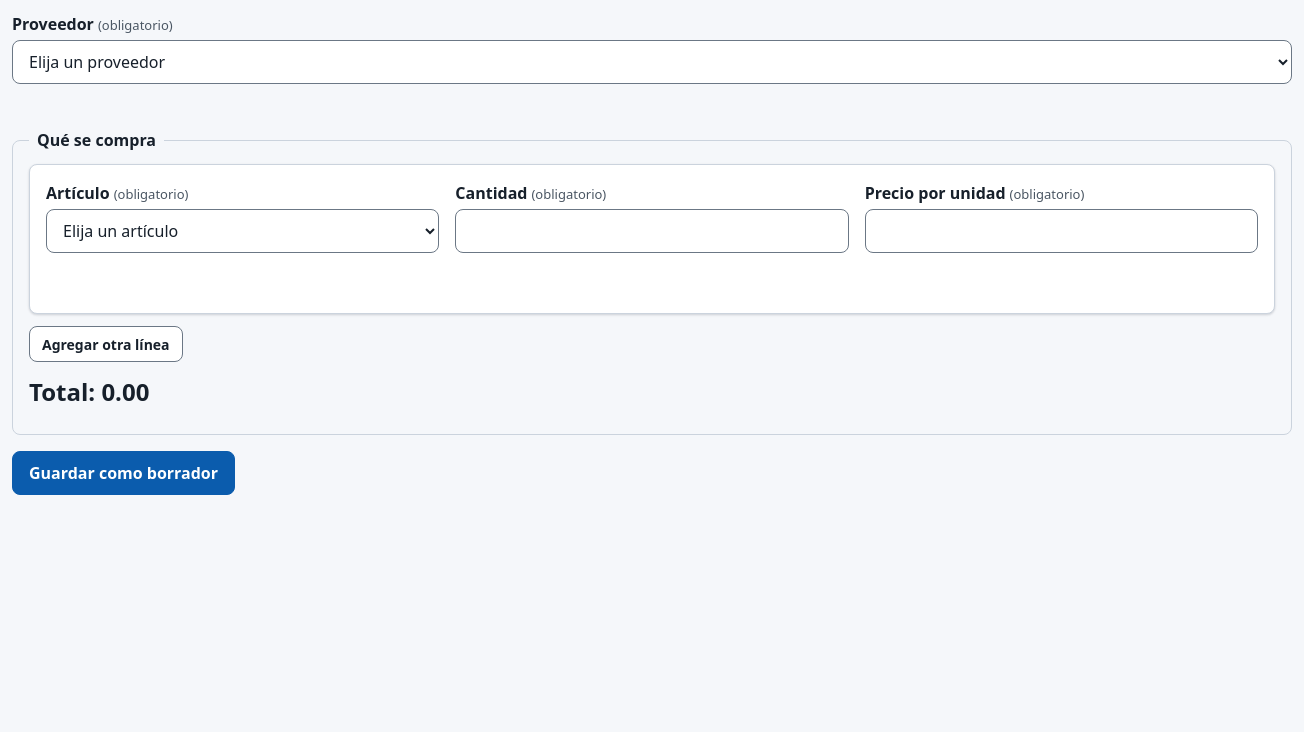
Test case: FormularioOrden › calcula el total al instante y envía las líneas con números
The image size is (1304, 732).
Later steps or results of the test are not shown.
Select "Proveedor Uno" in the dropdown with test id "campo-proveedor" at (652, 62), box [12,40,1292,84]
Select "LAP-0001 · Laptop" in the dropdown with test id "linea-0-sku" at (243, 231), box [46,209,439,253]
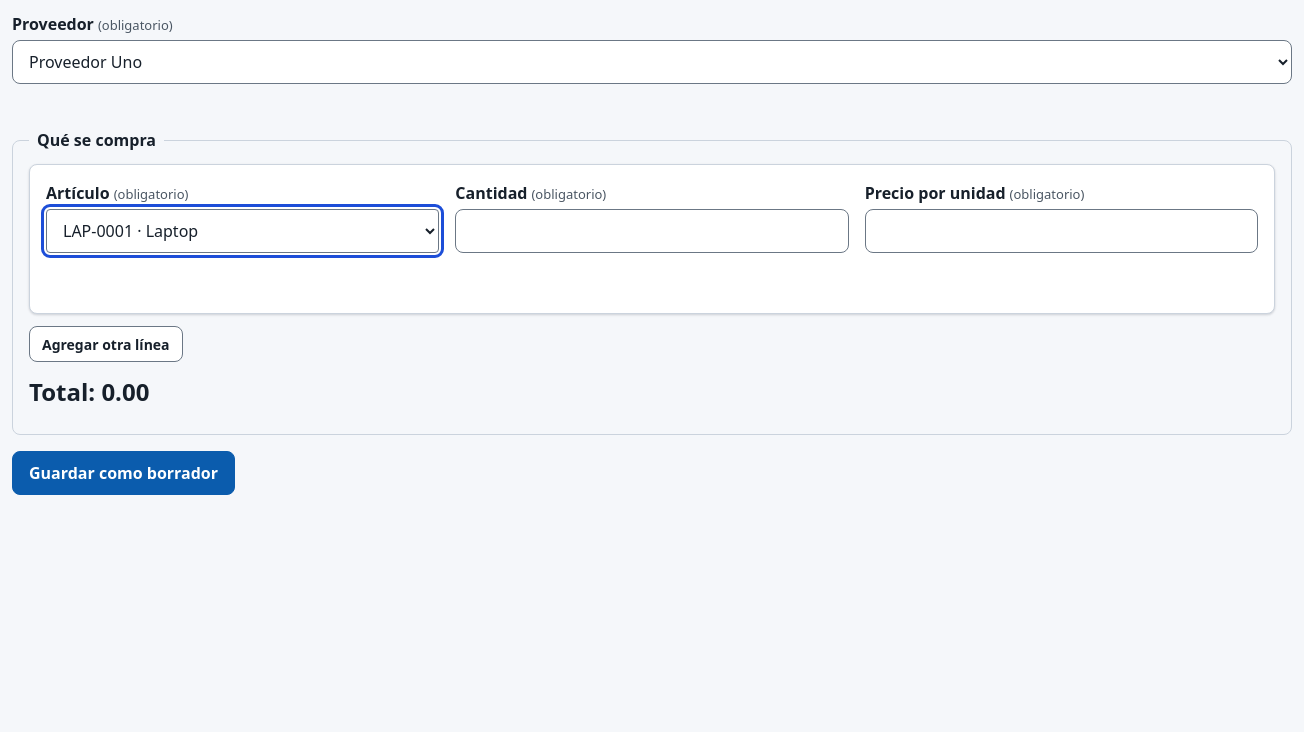
Type "2" into the number field with test id "linea-0-cantidad".
click(652, 231); type("2")  # box [455,209,849,253]
Type "1500.50" into the number field with test id "linea-0-precio".
click(1061, 231); type("1500.50")  # box [865,209,1258,253]
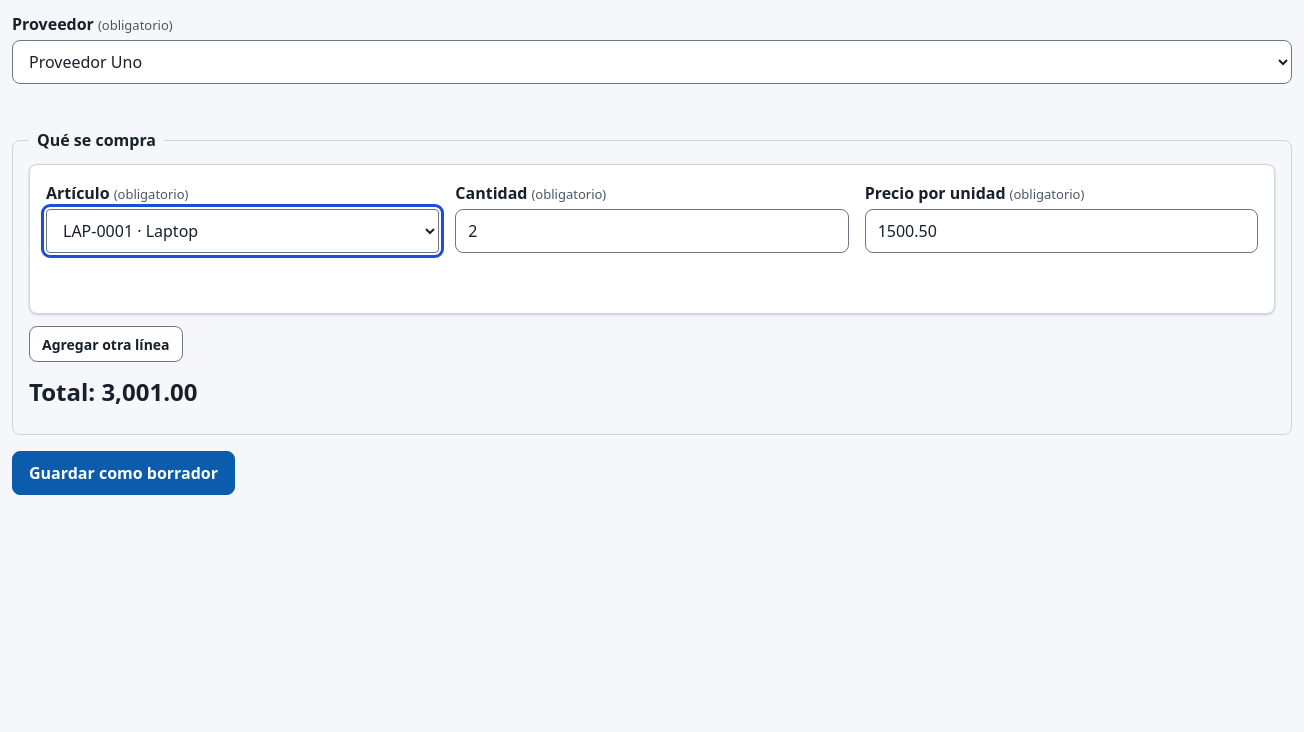
Click the button with test id "agregar-linea".
click(106, 344)  # box [29,326,183,362]
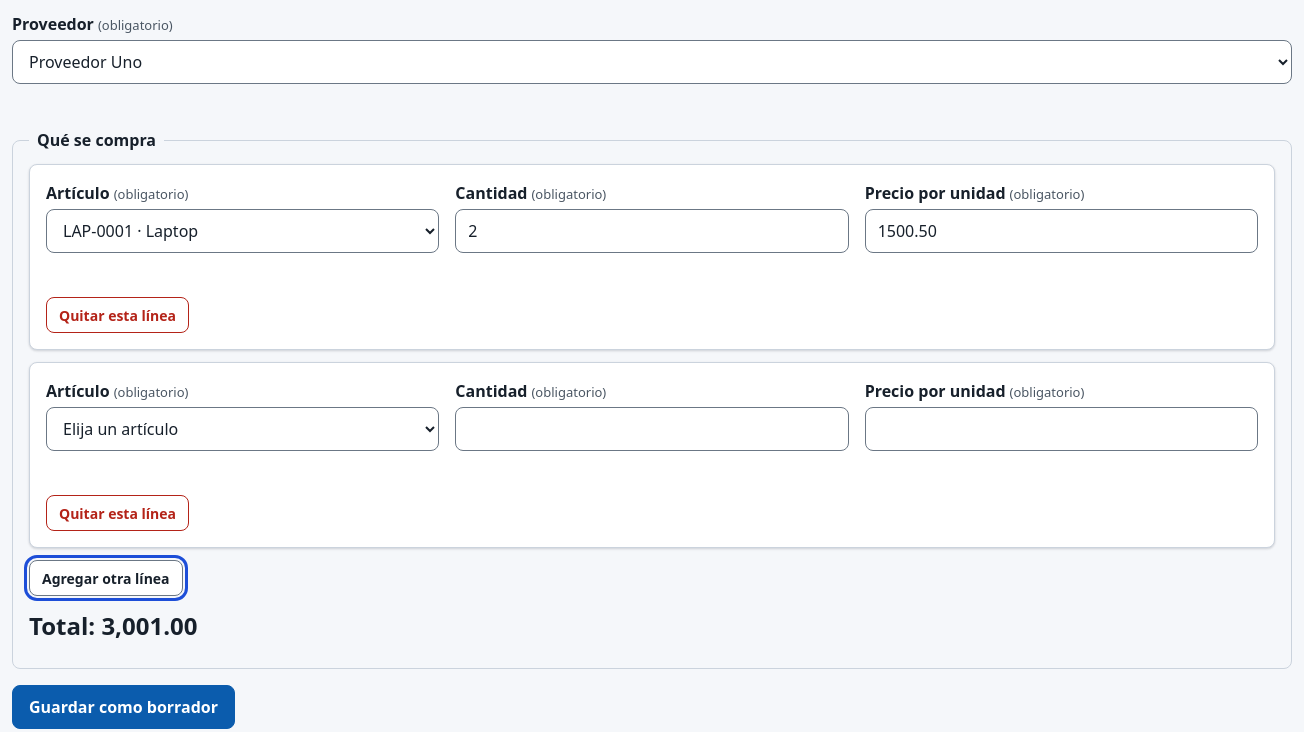
Select "MON-0001 · Monitor" in the dropdown with test id "linea-1-sku" at (243, 429), box [46,407,439,451]
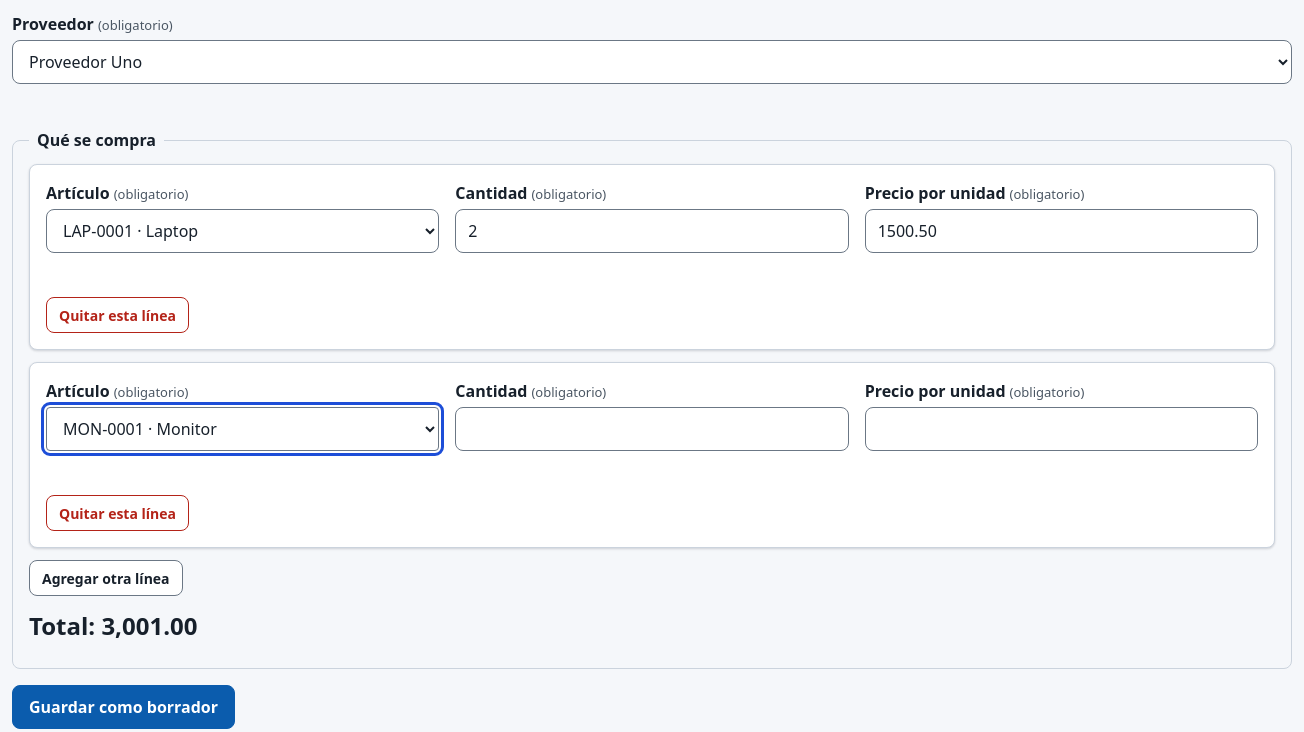
Type "1" into the number field with test id "linea-1-cantidad".
click(652, 429); type("1")  # box [455,407,849,451]
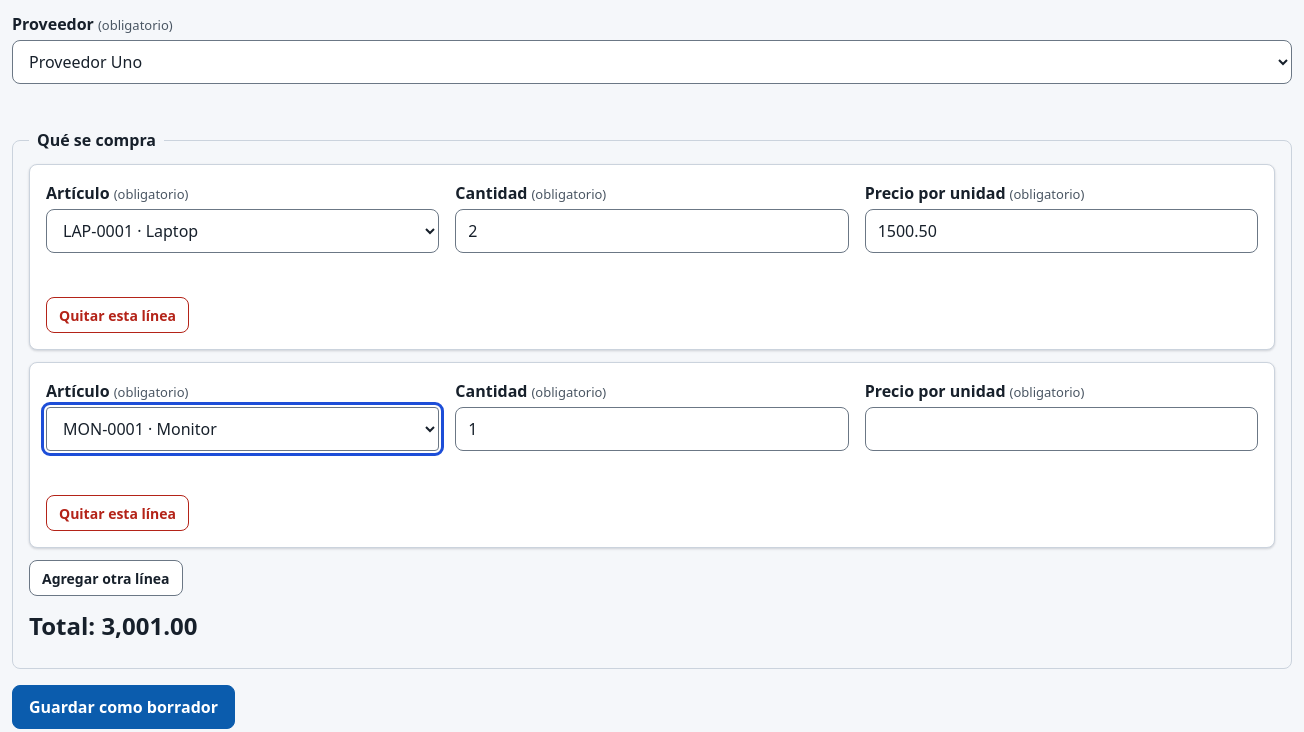
Type "800" into the number field with test id "linea-1-precio".
click(1061, 429); type("800")  # box [865,407,1258,451]
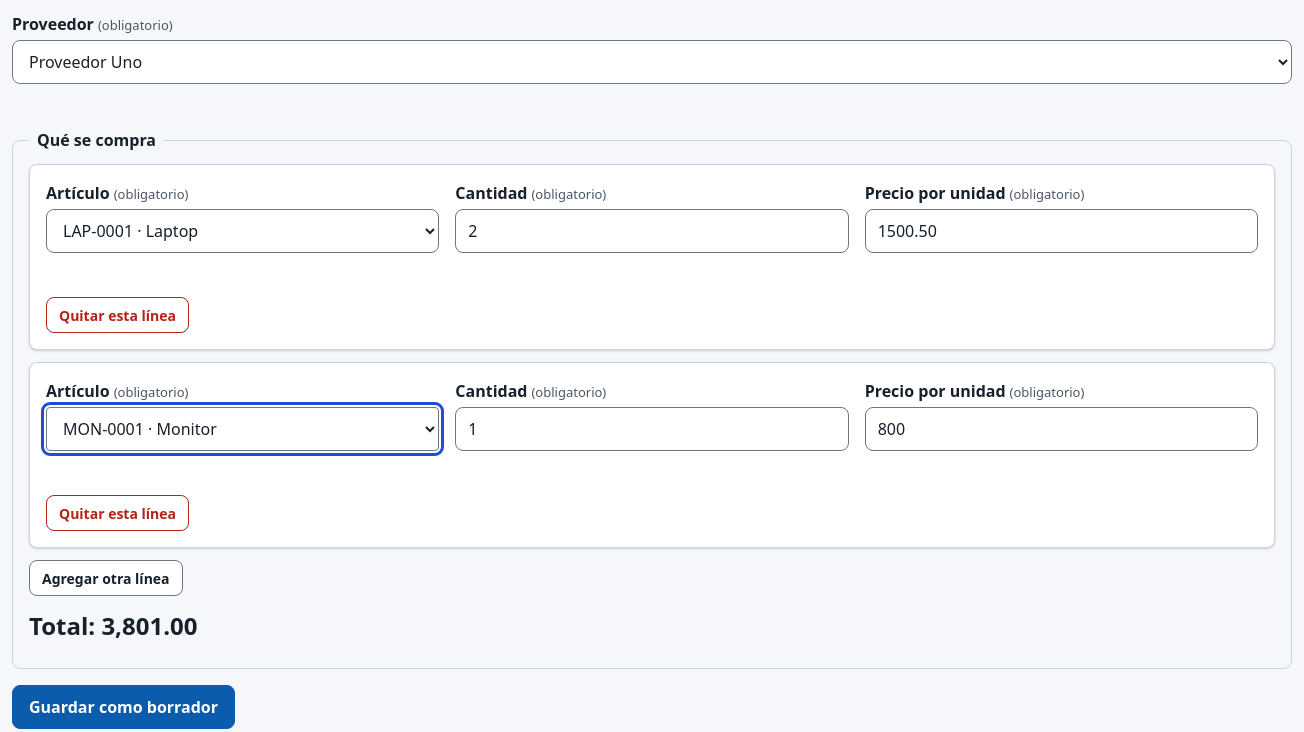
Expected: the text with test id "total-orden" shows "3,801.00", [101,609,198,642]
